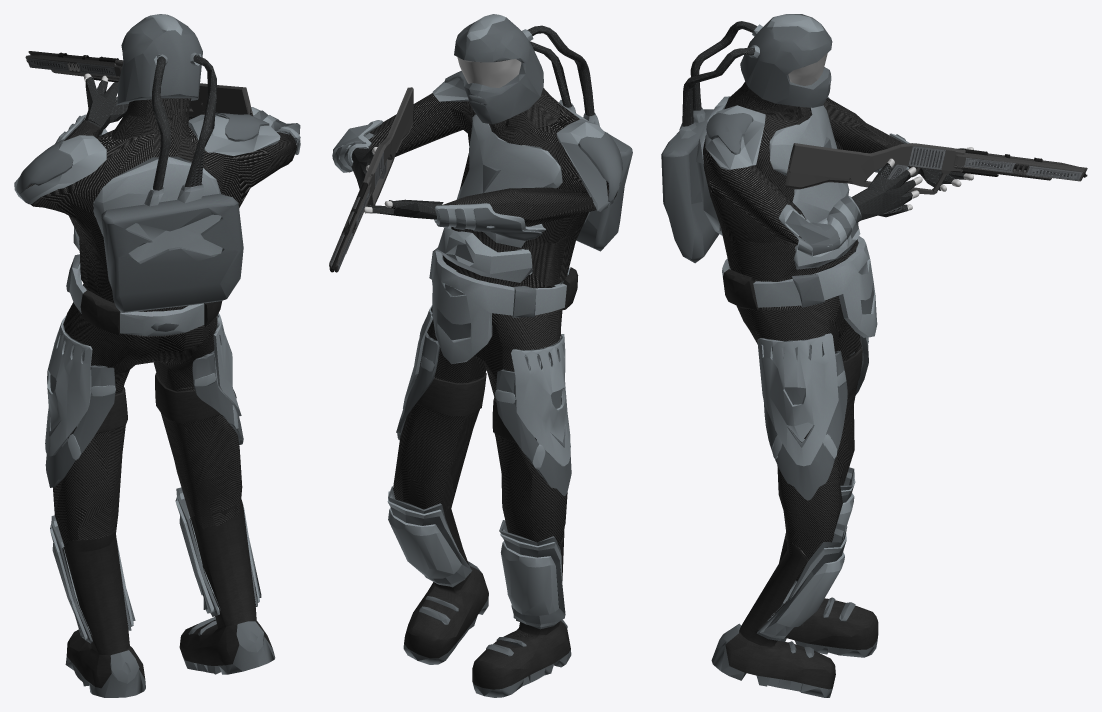
File: AndarEscopeta.0023.obj
3 renders of one model, left to right at view 1: azimuth 30°, elevation 25°; view 2: azimuth 150°, elevation 25°; view 3: azimuth 270°, elevation 25°, orthographic. The views are drawn at different scales.
Parts seen in each view (by area): view 1: personaje:extrudedSurface2 polySurface192, personaje:PANTALON polySurface192, personaje:bota1 polySurface192, personaje:CAMISETABUENA polySurface192, personaje:pPipe4 polySurface192, personaje:pCube4 polySurface192, personaje:cosoarmdaurapierna1 polySurface192, personaje:cinturon polySurface192, escopeta:Cylinder001 polySurface192, personaje:polySurface6 polySurface192, personaje:armadbota1 polySurface192, personaje:cosoarmadurapierna2 polySurface192 (+4 smaller); view 2: personaje:PANTALON polySurface192, personaje:CAMISETABUENA polySurface192, personaje:pPipe4 polySurface192, personaje:bota1 polySurface192, personaje:extrudedSurface2 polySurface192, personaje:cinturon polySurface192, personaje:armadbota1 polySurface192, personaje:pCube4 polySurface192, personaje:cosoarmdaurapierna1 polySurface192, escopeta:Cylinder001 polySurface192, personaje:polySurface6 polySurface192, personaje:HOMBRO2 polySurface192 (+7 smaller); view 3: personaje:CAMISETABUENA polySurface192, personaje:extrudedSurface2 polySurface192, personaje:pPipe4 polySurface192, personaje:bota1 polySurface192, personaje:pCube4 polySurface192, personaje:PANTALON polySurface192, escopeta:Cylinder001 polySurface192, personaje:cinturon polySurface192, personaje:cosoarmadurapierna2 polySurface192, personaje:armadbota1 polySurface192, personaje:hombro1 polySurface192, personaje:partearmdBRAZO2 polySurface192 (+1 smaller).
Part boxes in pixels (x1,y1,x2,y2): personaje:extrudedSurface2 polySurface192: (101, 14, 243, 312); personaje:PANTALON polySurface192: (53, 283, 242, 545); personaje:bota1 polySurface192: (64, 500, 275, 697); personaje:CAMISETABUENA polySurface192: (26, 98, 296, 336); personaje:pPipe4 polySurface192: (14, 77, 300, 250); personaje:pCube4 polySurface192: (45, 313, 261, 643); personaje:cosoarmdaurapierna1 polySurface192: (45, 316, 115, 460); personaje:cinturon polySurface192: (66, 254, 222, 336); escopeta:Cylinder001 polySurface192: (25, 51, 253, 116); personaje:polySurface6 polySurface192: (96, 373, 220, 433); personaje:armadbota1 polySurface192: (50, 493, 259, 640); personaje:cosoarmadurapierna2 polySurface192: (192, 350, 243, 444); personaje:PANTALON polySurface192: (393, 271, 567, 546); personaje:CAMISETABUENA polySurface192: (349, 60, 617, 317); personaje:pPipe4 polySurface192: (333, 77, 614, 282); personaje:bota1 polySurface192: (403, 505, 571, 697); personaje:extrudedSurface2 polySurface192: (454, 14, 632, 251); personaje:cinturon polySurface192: (429, 247, 578, 363); personaje:armadbota1 polySurface192: (387, 491, 562, 627); personaje:pCube4 polySurface192: (388, 305, 571, 629); personaje:cosoarmdaurapierna1 polySurface192: (495, 334, 570, 469); escopeta:Cylinder001 polySurface192: (329, 87, 413, 272); personaje:polySurface6 polySurface192: (416, 373, 516, 442); personaje:HOMBRO2 polySurface192: (578, 132, 622, 201); personaje:CAMISETABUENA polySurface192: (703, 81, 903, 309); personaje:extrudedSurface2 polySurface192: (661, 14, 832, 263); personaje:pPipe4 polySurface192: (696, 96, 965, 269); personaje:bota1 polySurface192: (711, 533, 878, 697); personaje:pCube4 polySurface192: (756, 333, 868, 640); personaje:PANTALON polySurface192: (736, 256, 861, 581); escopeta:Cylinder001 polySurface192: (785, 143, 1087, 194); personaje:cinturon polySurface192: (722, 236, 877, 337); personaje:cosoarmadurapierna2 polySurface192: (764, 346, 847, 500); personaje:armadbota1 polySurface192: (760, 472, 855, 638); personaje:hombro1 polySurface192: (706, 112, 753, 154); personaje:partearmdBRAZO2 polySurface192: (779, 195, 861, 256).
Size of the model in its own units: 4.26 by 9.67 by 5.71.
